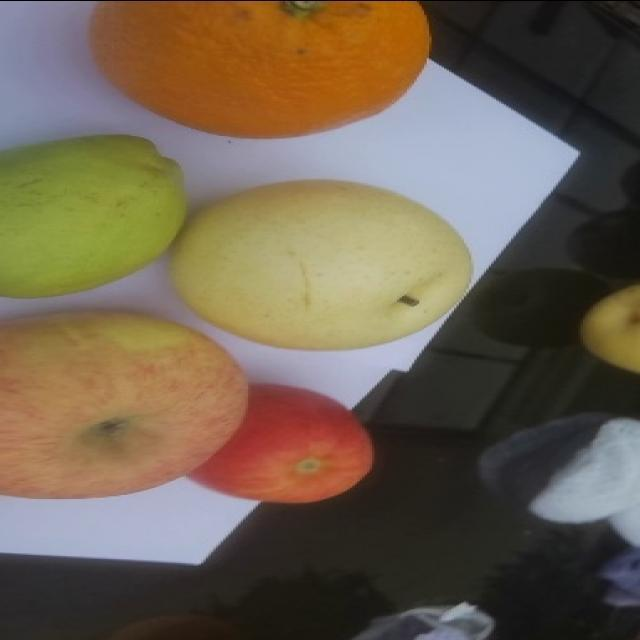Apple: (0, 307, 255, 498), (176, 375, 379, 505)
Orange: (86, 0, 432, 140)
